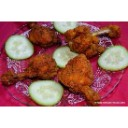chicken_lollipop: (59, 56, 105, 104), (2, 58, 60, 86), (67, 25, 122, 54), (25, 22, 61, 46)
